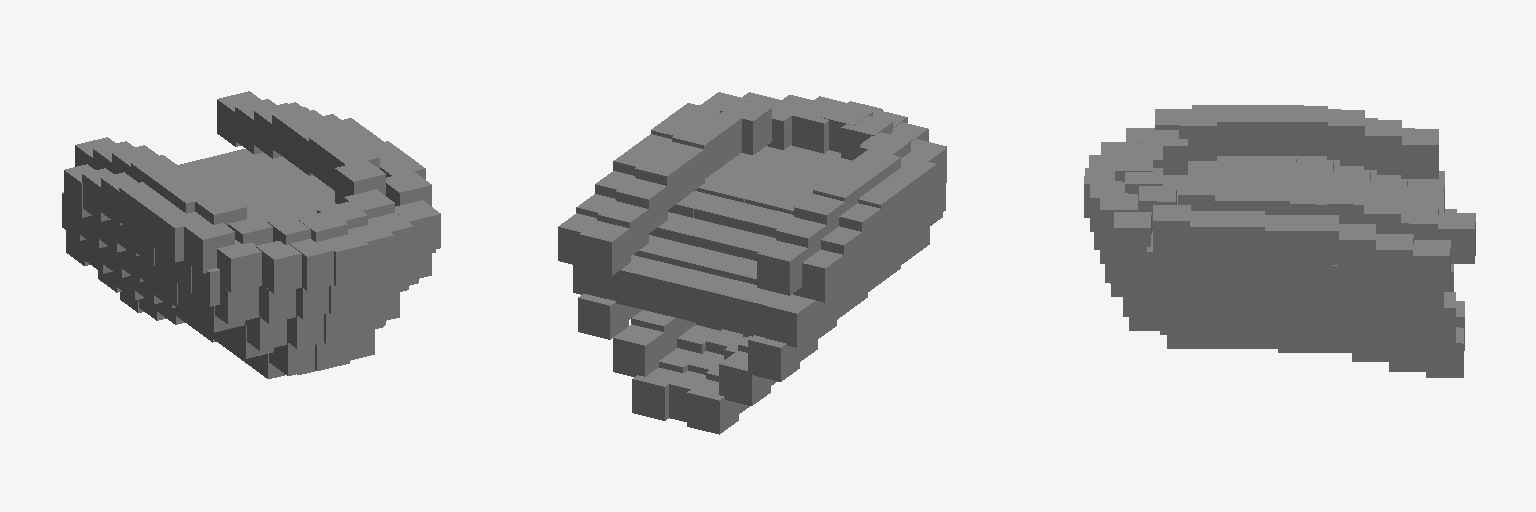
Rendered from quiCuello_VM.obj.
The picture shows the model from 3 angles: view 1: azimuth 30°, elevation 25°; view 2: azimuth 150°, elevation 25°; view 3: azimuth 270°, elevation 25°; orthographic projection.
Parts seen in each view (by area): view 1: Box3580; view 2: Box3580; view 3: Box3580.
Boxes of the visible parts, box(x1,y1,x2,y2) form: Box3580: box(62, 91, 440, 378); Box3580: box(558, 92, 946, 434); Box3580: box(1084, 105, 1475, 377).
Size of the model in its own units: 0.4474 by 0.3435 by 0.6066.